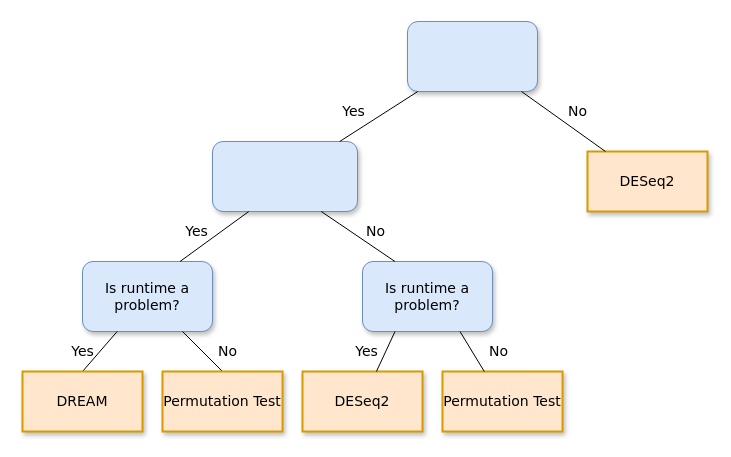
Some shapes in this 731 by 457 pixel diagram are drawn without their labels. Each missing label, with the centre of its shape:
"Conditions balanced across the batches?" goes at (x=286, y=177).
"Nested setting with several batches and samples?" goes at (x=473, y=57).
